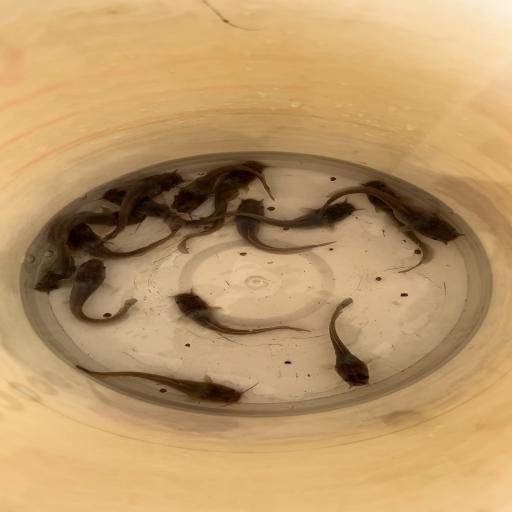lele: (176, 159, 266, 254), (318, 186, 460, 244), (73, 364, 245, 406), (87, 172, 183, 247), (359, 181, 432, 275), (167, 292, 312, 336), (99, 186, 236, 229), (238, 198, 336, 255), (168, 164, 275, 216), (56, 220, 182, 260), (192, 200, 356, 230), (68, 257, 140, 325), (326, 297, 374, 387), (31, 215, 82, 295), (44, 208, 146, 238)
